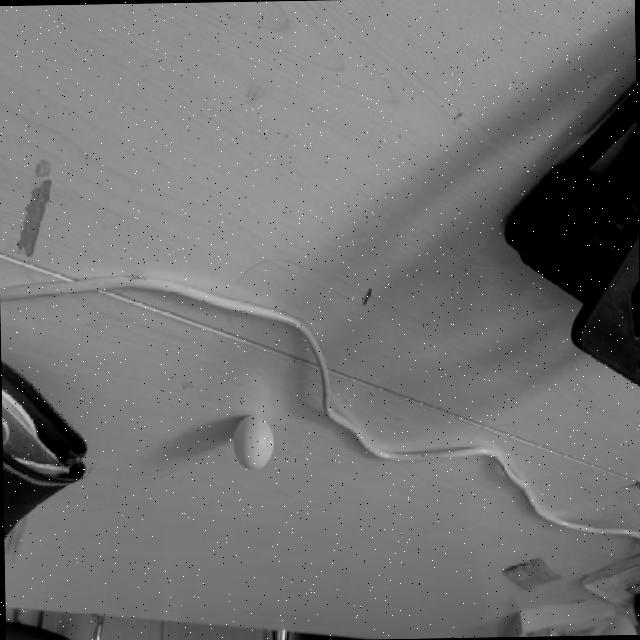ping-pong-ball: (232, 413, 274, 470)
